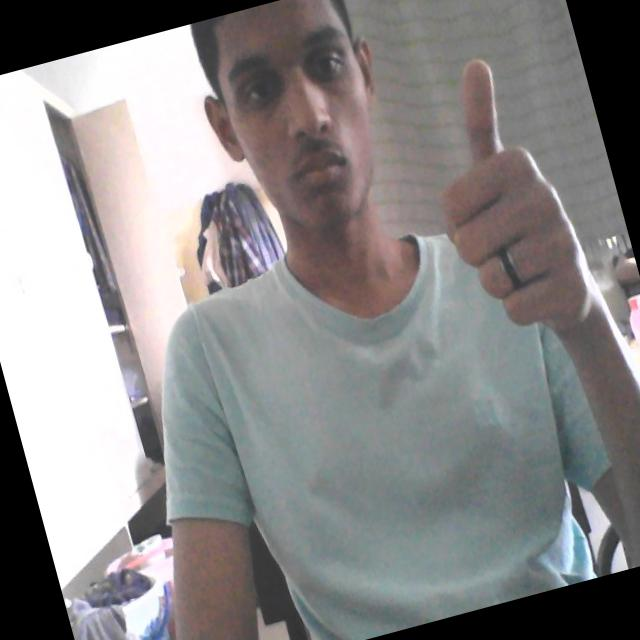Yes: (427, 39, 640, 483)
